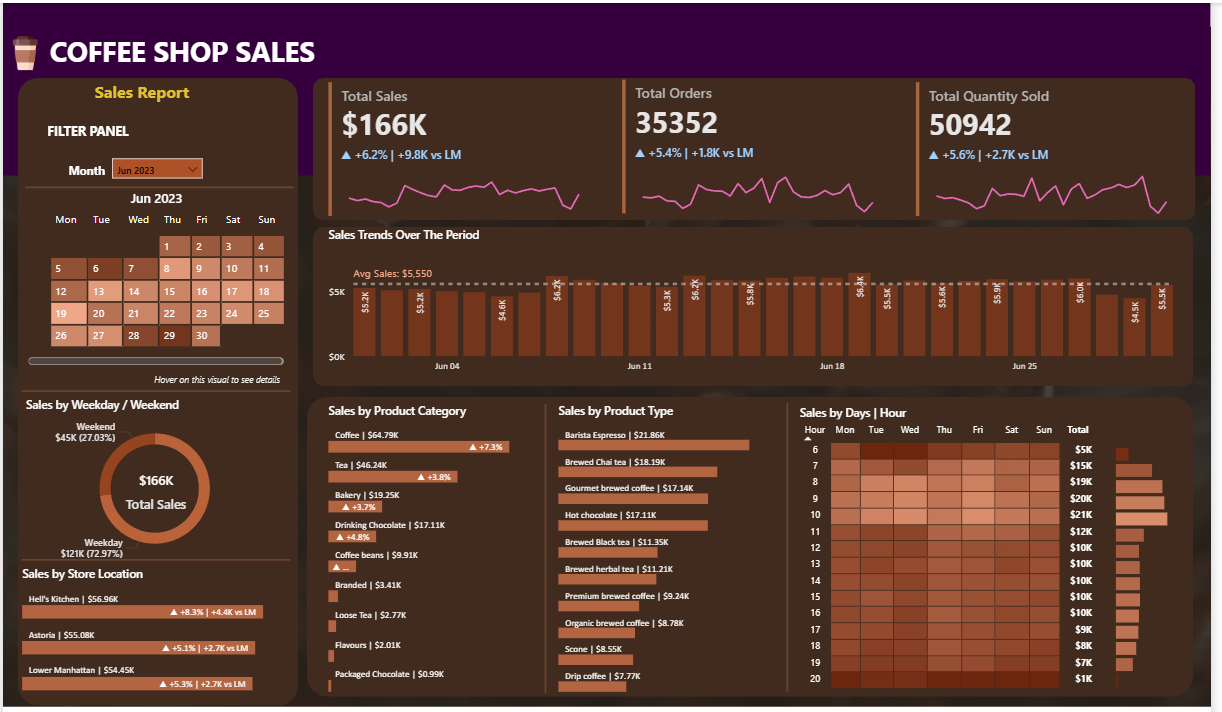

What the dashboard file says about the page in this screenshot:
{"tool":"powerbi","page":{"name":"Page 1","canvas":[1400,850],"ordinal":0},"visuals":[{"type":"shape","box":[0,0,1399.3,199.9],"z":0},{"type":"shape","box":[17.4,86.9,324.5,727.2],"z":1000},{"type":"shape","box":[359.2,86.9,1022.7,165.1],"z":2000},{"type":"textbox","box":[49.3,29,341.9,57.9],"z":3000},{"type":"image","box":[1.4,29,49.3,57.9],"z":4000},{"type":"cardVisual","fields":{"Data":["Transactions.Total Orders"]},"box":[712.7,84,299.8,165.1],"z":5000,"group":"g3"},{"type":"cardVisual","fields":{"Data":["Transactions.Total Sales"]},"box":[372.3,86.9,299.8,165.1],"z":5000,"group":"g4"},{"type":"cardVisual","fields":{"Data":["Transactions.Total Quantity Sold"]},"box":[1053.1,86.9,299.8,165.1],"z":5000,"group":"g5"},{"type":"slicer","fields":{"Values":["Date Table.Month Year"]},"box":[121.7,175.3,114.4,40.6],"z":5000},{"type":"group","id":"g1","title":"Group 1","box":[372.3,86.9,310,165.1],"z":6000},{"type":"group","id":"g2","title":"Group 1","box":[712.7,84,310,165.1],"z":7000},{"type":"lineChart","fields":{"Category":["Date Table.Date.Variation.Date Hierarchy.Year"],"Y":["Transactions.Total Orders"]},"box":[727.2,163.7,295.5,85.5],"z":7000,"group":"g3"},{"type":"lineChart","fields":{"Category":["Date Table.Date.Variation.Date Hierarchy.Year"],"Y":["Transactions.Total Sales"]},"box":[386.8,166.6,295.5,85.5],"z":7000,"group":"g4"},{"type":"lineChart","fields":{"Category":["Date Table.Date.Variation.Date Hierarchy.Year"],"Y":["Transactions.Total Quantity Sold"]},"box":[1067.6,166.6,295.5,85.5],"z":7000,"group":"g5"},{"type":"group","id":"g3","title":"Group 2","box":[712.7,84,310,165.1],"z":7002,"group":"g2"},{"type":"group","id":"g4","title":"Group 2","box":[372.3,86.9,310,165.1],"z":7002,"group":"g1"},{"type":"group","id":"g5","title":"Group 2","box":[1053.1,86.9,310,165.1],"z":7002,"group":"g6"},{"type":"group","id":"g6","title":"Group 1","box":[1053.1,86.9,310,165.1],"z":8000},{"type":"pivotTable","fields":{"Rows":["Date Table.Week Number"],"Columns":["Date Table.Day Name"],"Values":["Min(Date Table.Day Number)"]},"box":[24.6,234.7,305.6,189.8],"z":9000},{"type":"card","fields":{"Values":["Min(Date Table.Month Year)"]},"box":[120.2,214.4,115.9,29],"z":10000},{"type":"card","fields":{"Values":["Transactions.Foot Note"]},"box":[166.6,424.4,163.7,26.1],"z":11000},{"type":"shape","box":[21.7,443.3,311.4,13],"z":12000},{"type":"shape","box":[26.1,207.1,311.4,13],"z":13000},{"type":"donutChart","title":"Sales by Weekday / Weekend","fields":{"Category":["Date Table.Weekday / Weekend"],"Y":["Transactions.Total Sales"]},"box":[21.7,456.3,308.5,195.6],"z":14000},{"type":"card","fields":{"Values":["Transactions.Total Sales"]},"box":[136.2,537.4,82.6,55],"z":15000},{"type":"shape","box":[21.7,638.8,311.4,13],"z":16000},{"type":"clusteredBarChart","title":"Sales by Store Location","fields":{"Category":["Transactions.store_location"],"Y":["Transactions.Placeholder","Transactions.Total Sales"]},"box":[17.4,651.8,312.9,152.1],"z":17000},{"type":"shape","box":[359.2,259.3,1020,185],"z":18000},{"type":"columnChart","title":"Sales Trends Over The Period","fields":{"Category":["Transactions.transaction_date"],"Y":["Transactions.Total Sales"]},"box":[372.3,259.3,990.8,178.2],"z":19000},{"type":"shape","box":[352,456.3,1027,347.7],"z":20000},{"type":"clusteredBarChart","title":"Sales by Product Category","fields":{"Y":["Transactions.Placeholder","Transactions.Total Sales"],"Category":["Transactions.product_category"]},"box":[372.3,463.5,246.3,340.4],"z":21000},{"type":"shape","box":[618.5,465,20.3,334.6],"z":22000},{"type":"clusteredBarChart","title":"Sales by Product Type","fields":{"Y":["Transactions.Placeholder","Transactions.Total Sales"],"Category":["Transactions.product_type"]},"box":[638.8,463.5,260.7,340.4],"z":23000},{"type":"shape","box":[899.5,463.5,18.8,334.6],"z":24000},{"type":"pivotTable","title":"Sales by Days | Hour","fields":{"Rows":["Transactions.Hour"],"Columns":["Date Table.Day Name"],"Values":["Transactions.Total Sales"]},"box":[918.4,465,369.4,336.1],"z":25000},{"type":"barChart","fields":{"Category":["Transactions.Hour"],"Y":["Transactions.Total Sales"]},"box":[1284.9,502.6,94.2,295.5],"z":26000},{"type":"textbox","box":[71,179.6,63.7,33.3],"z":27000},{"type":"textbox","box":[101.4,85.5,130.4,37.7],"z":28000},{"type":"textbox","box":[46.4,133.3,110.1,33.3],"z":29000}]}

Visuals, with their boxes on the page's 1400x850 design canvas (x1, y1, x2, y2). These are canvas units, not pixel positions in the 1222x712 screenshot, which may show the page scaled, cropped or inside an application window:
shape: [x1=0, y1=0, x2=1399, y2=200]
shape: [x1=17, y1=87, x2=342, y2=814]
shape: [x1=359, y1=87, x2=1382, y2=252]
textbox: [x1=49, y1=29, x2=391, y2=87]
image: [x1=1, y1=29, x2=51, y2=87]
cardVisual - Transactions.Total Orders: [x1=713, y1=84, x2=1012, y2=249]
cardVisual - Transactions.Total Sales: [x1=372, y1=87, x2=672, y2=252]
cardVisual - Transactions.Total Quantity Sold: [x1=1053, y1=87, x2=1353, y2=252]
slicer - Date Table.Month Year: [x1=122, y1=175, x2=236, y2=216]
"Group 1" group: [x1=372, y1=87, x2=682, y2=252]
"Group 1" group: [x1=713, y1=84, x2=1023, y2=249]
lineChart - Date Table.Date.Variation.Date Hierarchy.Year x Transactions.Total Orders: [x1=727, y1=164, x2=1023, y2=249]
lineChart - Date Table.Date.Variation.Date Hierarchy.Year x Transactions.Total Sales: [x1=387, y1=167, x2=682, y2=252]
lineChart - Date Table.Date.Variation.Date Hierarchy.Year x Transactions.Total Quantity Sold: [x1=1068, y1=167, x2=1363, y2=252]
"Group 2" group: [x1=713, y1=84, x2=1023, y2=249]
"Group 2" group: [x1=372, y1=87, x2=682, y2=252]
"Group 2" group: [x1=1053, y1=87, x2=1363, y2=252]
"Group 1" group: [x1=1053, y1=87, x2=1363, y2=252]
pivotTable - Date Table.Week Number x Date Table.Day Name: [x1=25, y1=235, x2=330, y2=424]
card - Min(Date Table.Month Year): [x1=120, y1=214, x2=236, y2=243]
card - Transactions.Foot Note: [x1=167, y1=424, x2=330, y2=450]
shape: [x1=22, y1=443, x2=333, y2=456]
shape: [x1=26, y1=207, x2=338, y2=220]
"Sales by Weekday / Weekend" donutChart: [x1=22, y1=456, x2=330, y2=652]
card - Transactions.Total Sales: [x1=136, y1=537, x2=219, y2=592]
shape: [x1=22, y1=639, x2=333, y2=652]
"Sales by Store Location" clusteredBarChart: [x1=17, y1=652, x2=330, y2=804]
shape: [x1=359, y1=259, x2=1379, y2=444]
"Sales Trends Over The Period" columnChart: [x1=372, y1=259, x2=1363, y2=438]
shape: [x1=352, y1=456, x2=1379, y2=804]
"Sales by Product Category" clusteredBarChart: [x1=372, y1=464, x2=619, y2=804]
shape: [x1=618, y1=465, x2=639, y2=800]
"Sales by Product Type" clusteredBarChart: [x1=639, y1=464, x2=900, y2=804]
shape: [x1=900, y1=464, x2=918, y2=798]
"Sales by Days | Hour" pivotTable: [x1=918, y1=465, x2=1288, y2=801]
barChart - Transactions.Hour x Transactions.Total Sales: [x1=1285, y1=503, x2=1379, y2=798]
textbox: [x1=71, y1=180, x2=135, y2=213]
textbox: [x1=101, y1=86, x2=232, y2=123]
textbox: [x1=46, y1=133, x2=156, y2=167]
